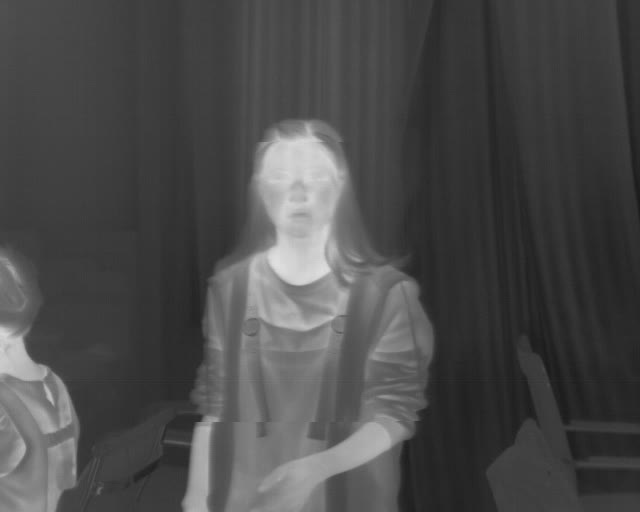face: (252, 119, 348, 239)
